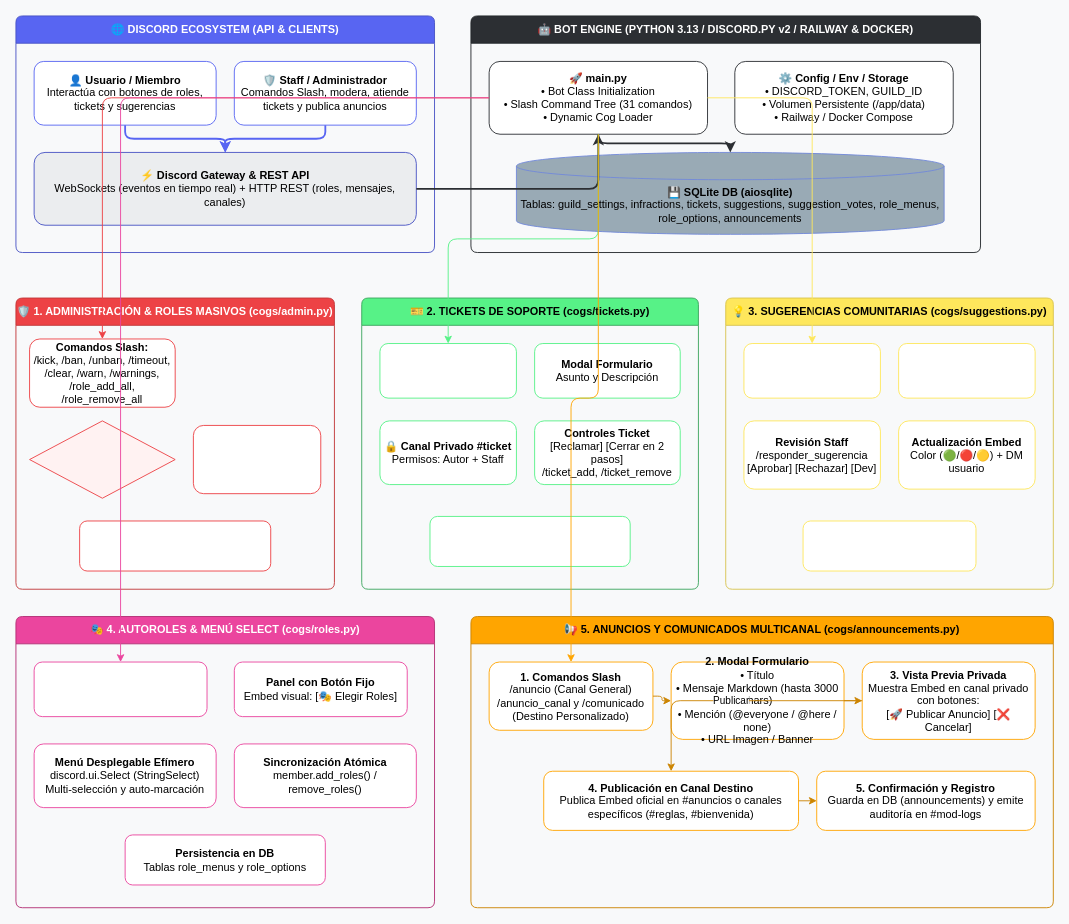
Image size: 1069x924. Some labels were removed from this diagram. Here are the shapes that lost their labels. From the top down, the centre of each, then its label:
pixel 447 370: Panel Fijo Persistente Botón: [📩 Crear Ticket]
pixel 811 370: Envío de Sugerencia /sugerir <contenido>
pixel 966 370: Embed con Votación Botones: [👍 Si] [👎 No] Toggle y Switch de voto
pixel 102 459: ¿Jerarquía OK? Bot > Rol > Target
pixel 256 459: Aplicar Sanción / Rol REST API + Anti Rate-Limits
pixel 175 545: 📝 ModLog & DB Historial en SQLite y Embed a #mod-logs
pixel 529 541: Cierre & Transcripción HTML Exporta HTML estilo Discord a #logs
pixel 889 545: Persistencia en DB Tablas suggestions y suggestion_votes
pixel 120 689: Setup por Staff /setup_autoroles en #roles
